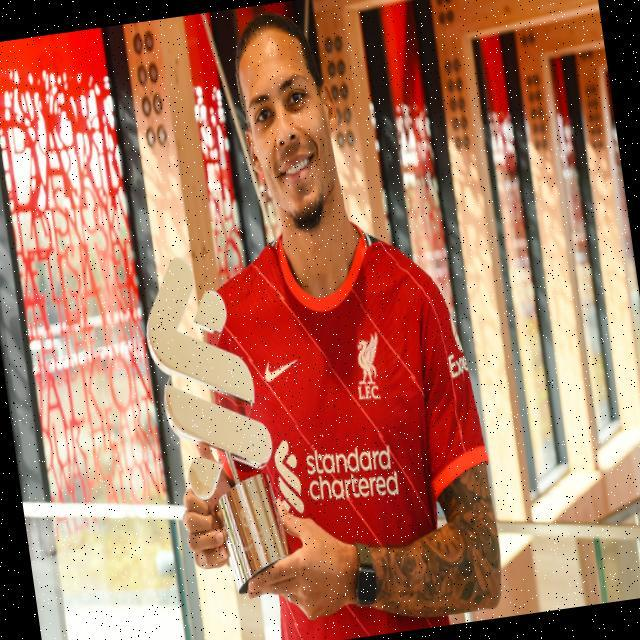Nike: (263, 357, 300, 384)
Standard Chartered: (135, 247, 279, 505), (272, 424, 400, 517)
